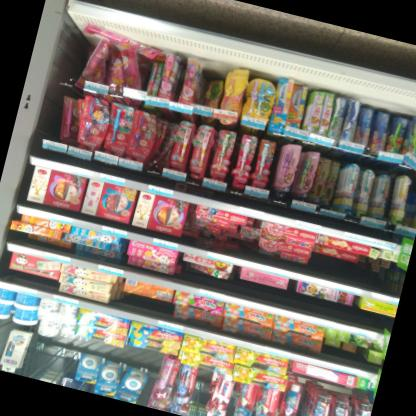empty_space: (28, 331, 80, 386), (58, 30, 87, 90), (189, 367, 215, 416)
